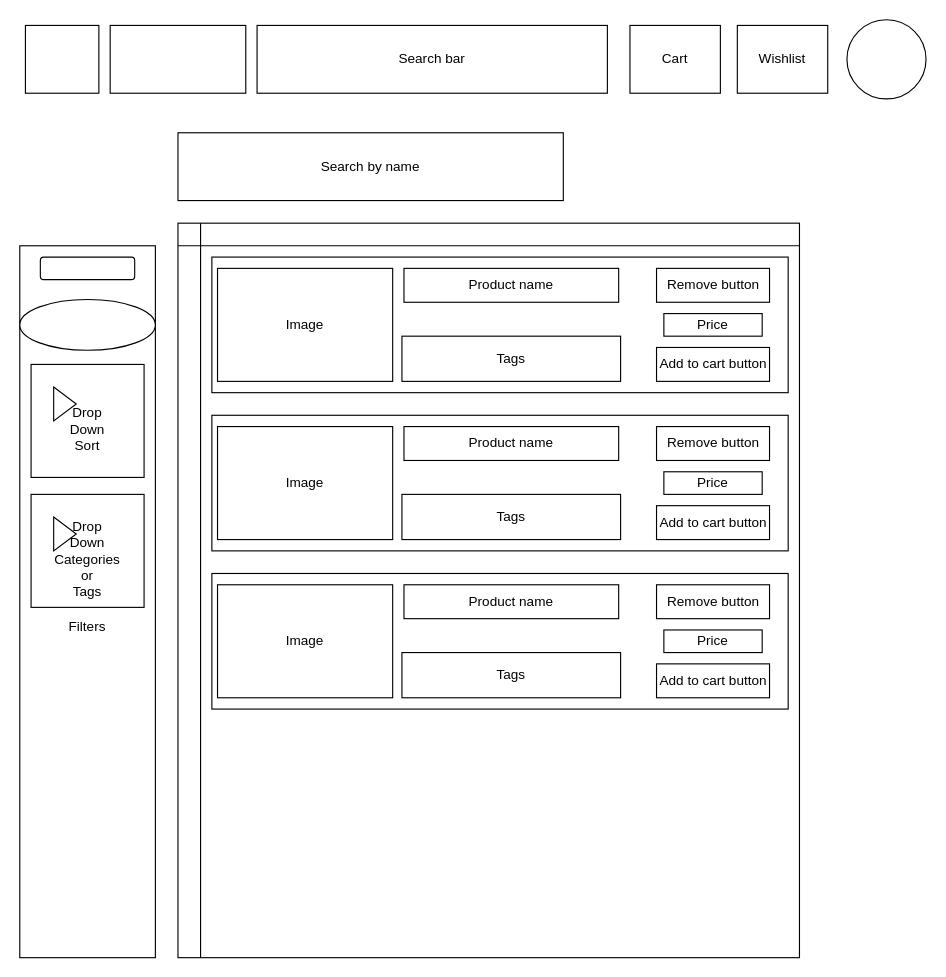
This 946x977 diagram has some shape labels left out. Each missing label, with the centre of its shape:
Discounts Filter: (x=87, y=324)
Home: (x=61, y=58)
Price slider: (x=87, y=268)
Recommendations: (x=177, y=58)
User Profile: (x=886, y=59)
